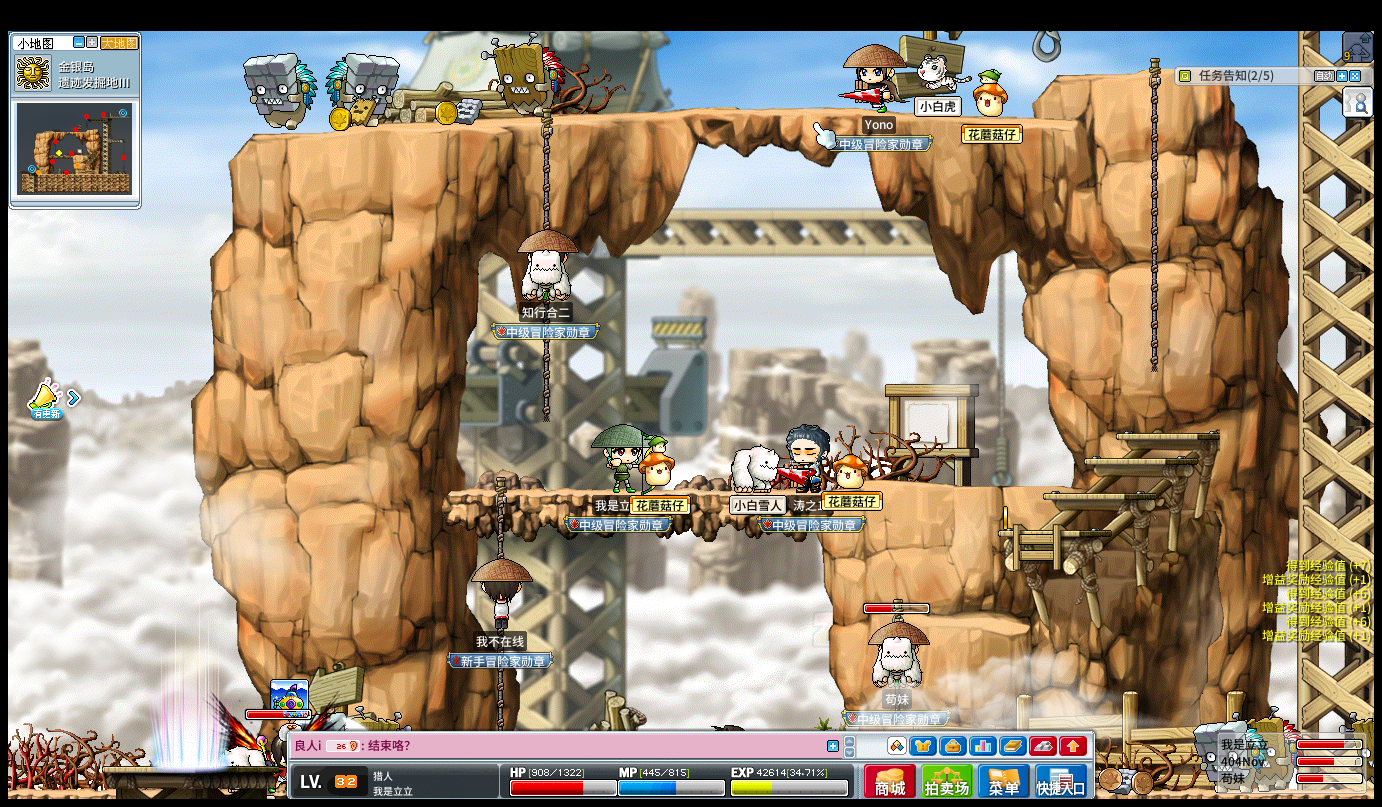floor: (252, 104, 1080, 142), (443, 488, 824, 499), (921, 612, 1028, 634), (905, 482, 1077, 492), (1053, 68, 1169, 81), (1115, 429, 1221, 441), (1077, 456, 1195, 465), (996, 528, 1110, 536), (1044, 492, 1156, 500)
monster: (487, 32, 564, 118), (243, 52, 317, 133), (327, 51, 400, 128), (1193, 720, 1267, 791)
rope: (1147, 55, 1161, 375), (540, 107, 552, 230), (492, 480, 505, 559), (540, 339, 550, 424), (495, 668, 505, 727)
